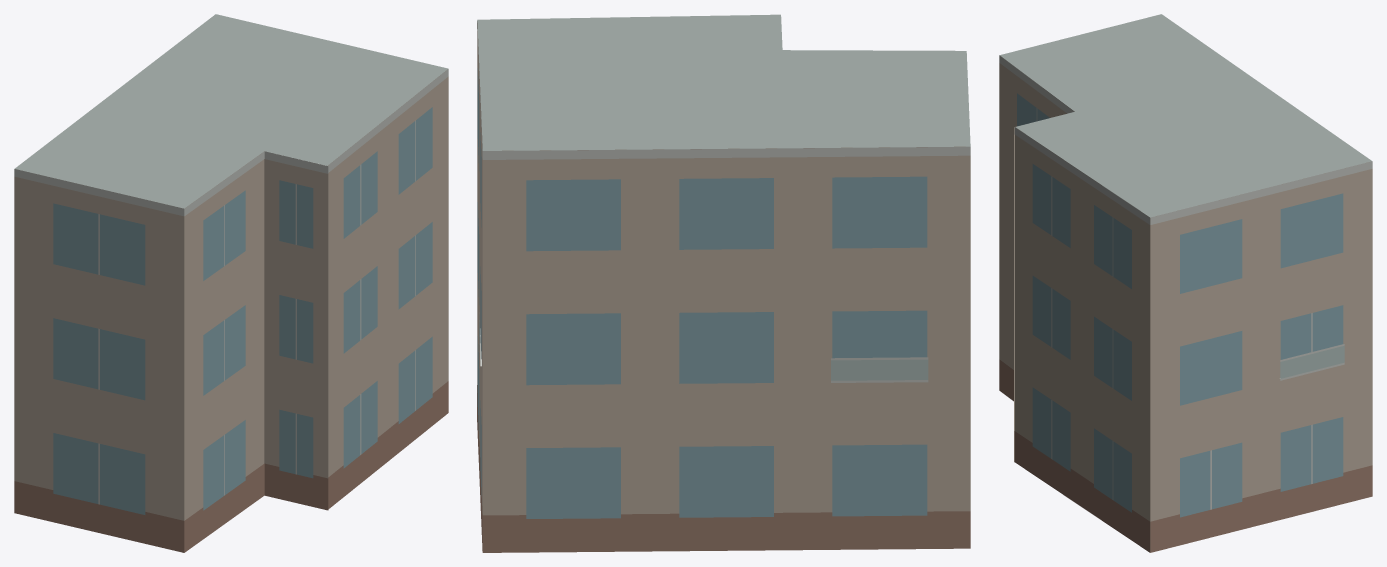
The model's file is survey-upis-32498180.glb.
The picture shows the model from 3 angles, left to right: view 1: azimuth 30°, elevation 25°; view 2: azimuth 150°, elevation 25°; view 3: azimuth 270°, elevation 25°; orthographic projection. The views are drawn at different scales.
Parts seen in each view (by area): view 1: survey-upis-32498180.tmp; view 2: survey-upis-32498180.tmp; view 3: survey-upis-32498180.tmp.
Boxes of the visible parts, x1,y1,x2,y2 form: survey-upis-32498180.tmp: (14, 14, 448, 552); survey-upis-32498180.tmp: (477, 14, 970, 552); survey-upis-32498180.tmp: (999, 14, 1372, 552).
Bounding box in the file's own units: 14.07 × 10.8 × 10.9.
